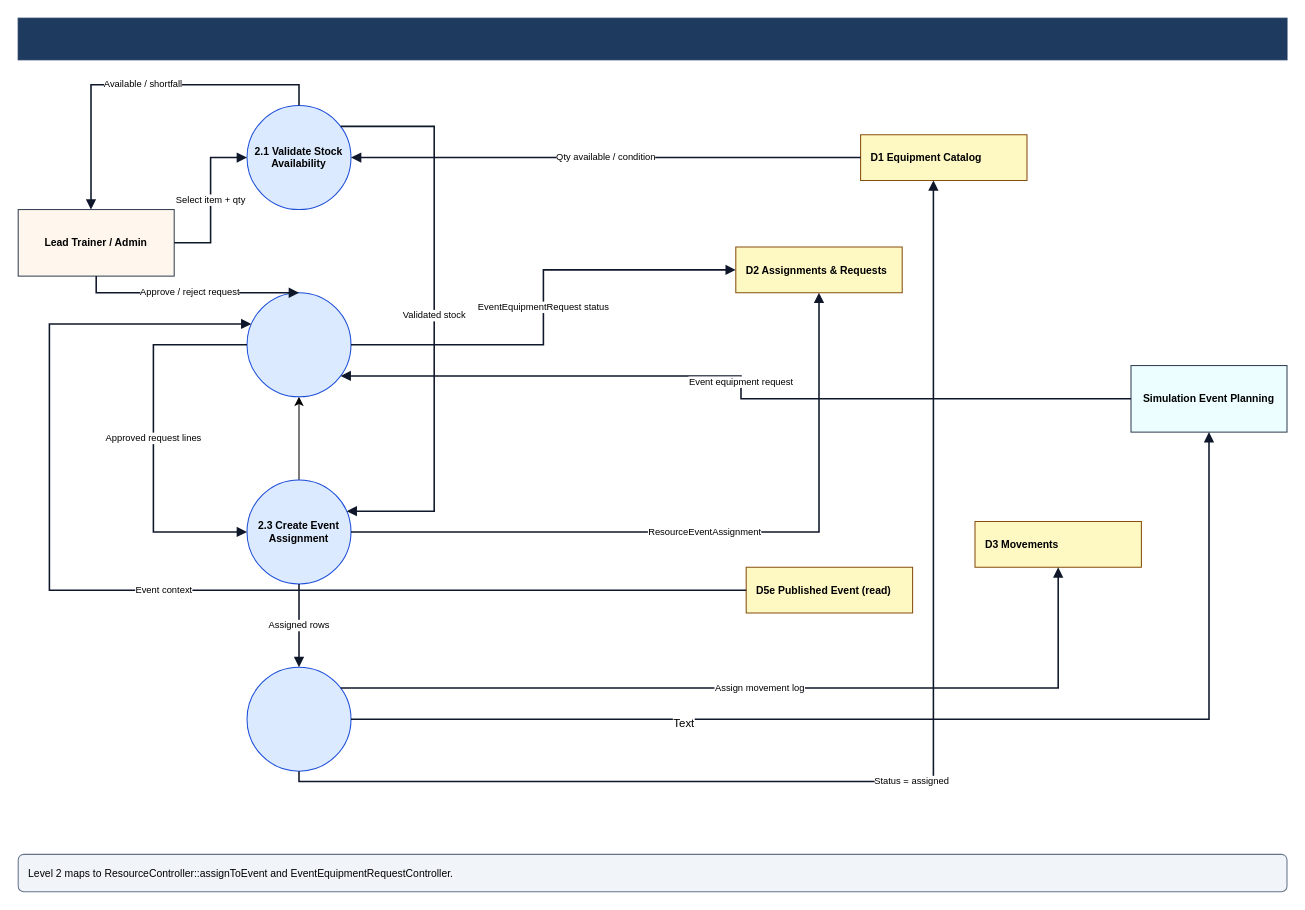
Image size: 1305x910. Some labels were removed from this diagram. Each missing label, with the centre of its shape:
2.2 Create / Approve Equipment Request: point 298,344
2.4 Log Movement & Update Status: point 298,718
DFD Level 2 — Process 2.0 Assign Equipment to Event (Detail): point 652,38
